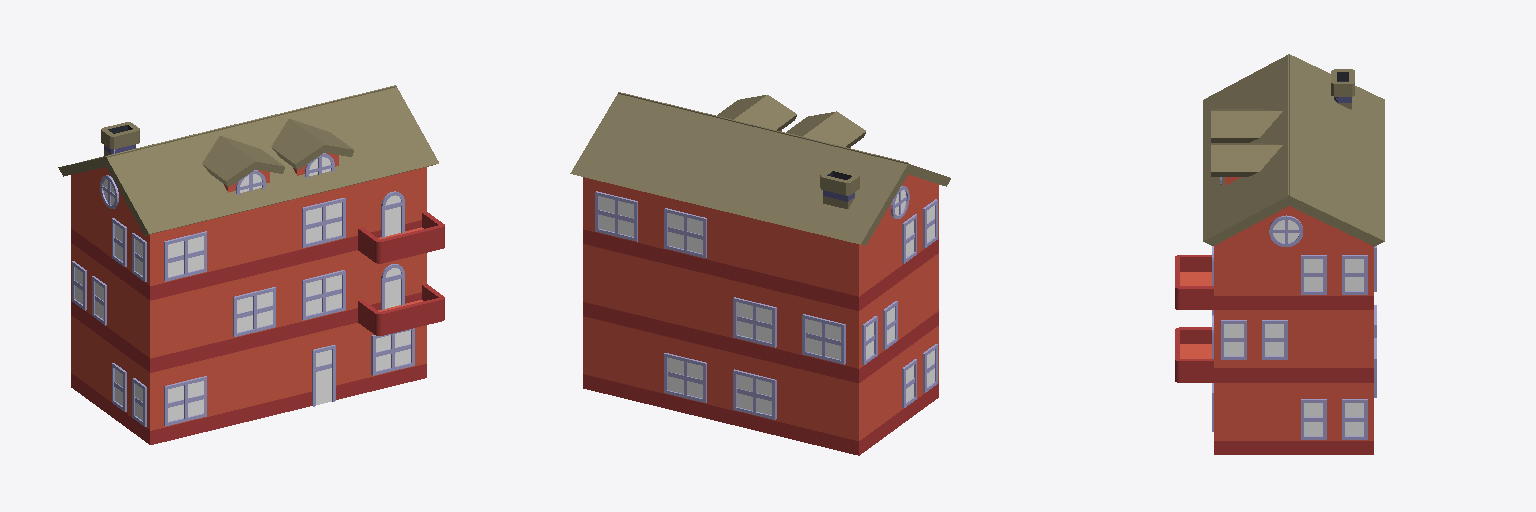
The model's file is building3.obj.
3 renders of one model, left to right at view 1: azimuth 30°, elevation 25°; view 2: azimuth 150°, elevation 25°; view 3: azimuth 270°, elevation 25°, orthographic.
Visible parts, largest first — view 1: mergedBlocks; view 2: mergedBlocks; view 3: mergedBlocks.
Boxes of the visible parts, x1,y1,x2,y2 form: mergedBlocks: [58, 85, 444, 444]; mergedBlocks: [570, 92, 950, 455]; mergedBlocks: [1175, 54, 1384, 454].
Size of the model in its own units: 4.2 by 3.64 by 2.64.